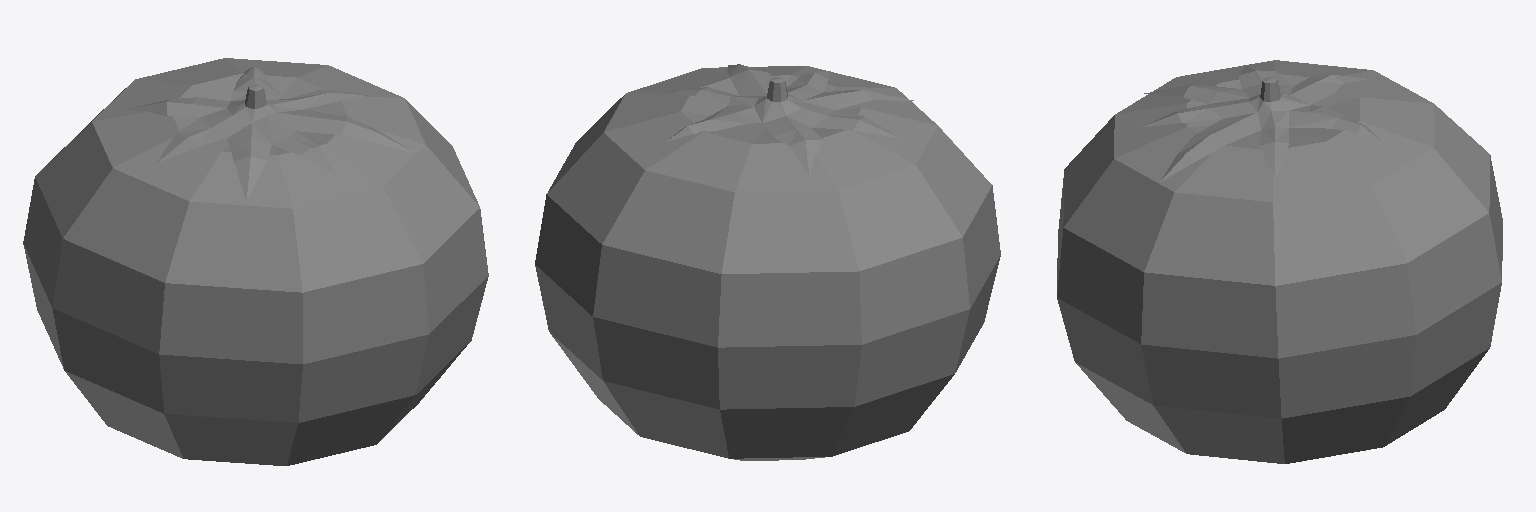
The model's file is Toemato.obj.
3 renders of one model, left to right at view 1: azimuth 30°, elevation 25°; view 2: azimuth 150°, elevation 25°; view 3: azimuth 270°, elevation 25°, orthographic.
Parts seen in each view (by area): view 1: Inst3D24_RefRep.200; view 2: Inst3D24_RefRep.200; view 3: Inst3D24_RefRep.200.
Boxes of the visible parts, box(x1,y1,x2,y2) form: Inst3D24_RefRep.200: box(23, 58, 488, 465); Inst3D24_RefRep.200: box(535, 64, 1000, 460); Inst3D24_RefRep.200: box(1057, 60, 1502, 463).
Size of the model in its own units: 3.09 by 2.53 by 2.94.